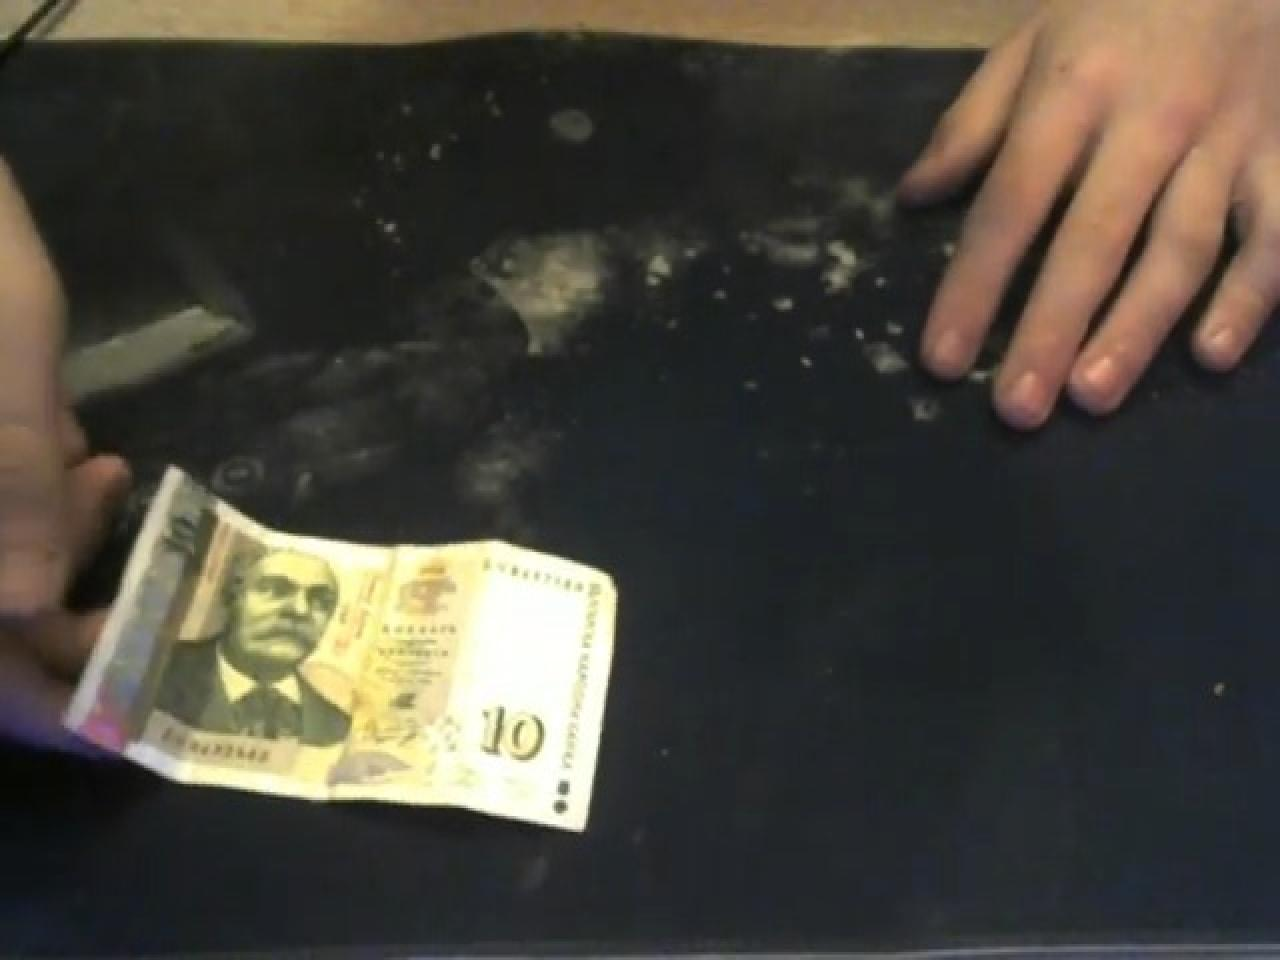10leva: (166, 547, 354, 747), (461, 676, 564, 787), (148, 488, 213, 581)
